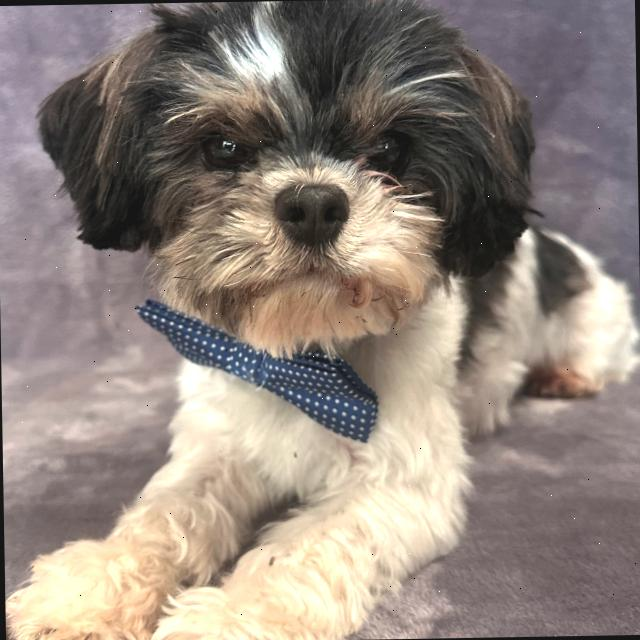shih_tzu_dog: (24, 0, 561, 375)
